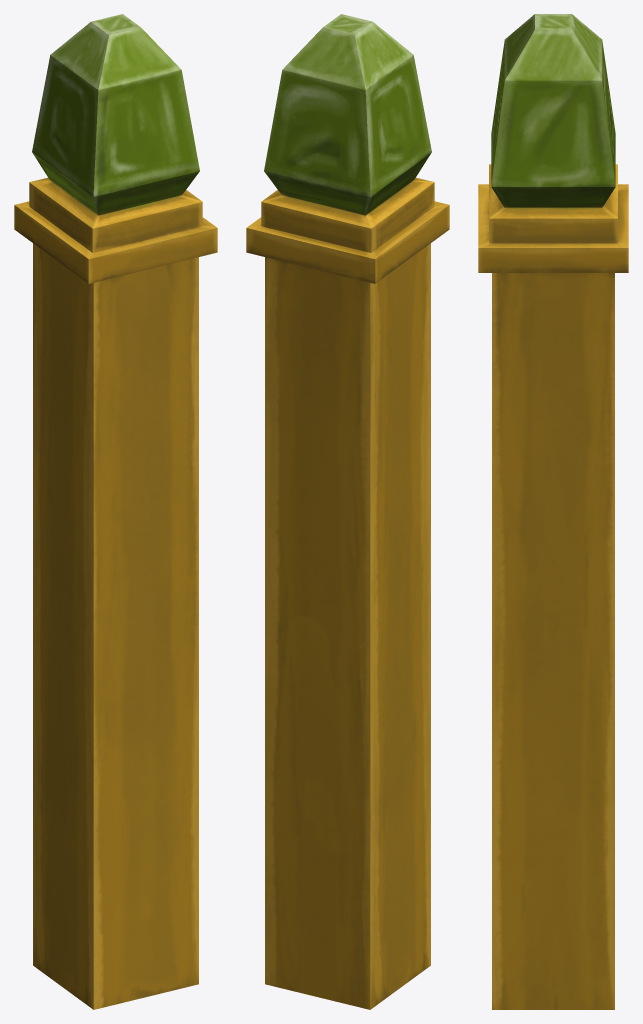
Rendered from fencePost.fbx.
The picture shows the model from 3 angles, left to right: view 1: azimuth 30°, elevation 25°; view 2: azimuth 150°, elevation 25°; view 3: azimuth 270°, elevation 25°; orthographic projection.
Visible parts, largest first — view 1: Box096; view 2: Box096; view 3: Box096.
Boxes of the visible parts, left/top/right/bottom form: Box096: left=14, top=14, right=217, bottom=1009; Box096: left=246, top=14, right=449, bottom=1009; Box096: left=478, top=14, right=628, bottom=1009.
Bounding box in the file's own units: 2.07 × 14.59 × 2.07.
1 material, 1 textured.
